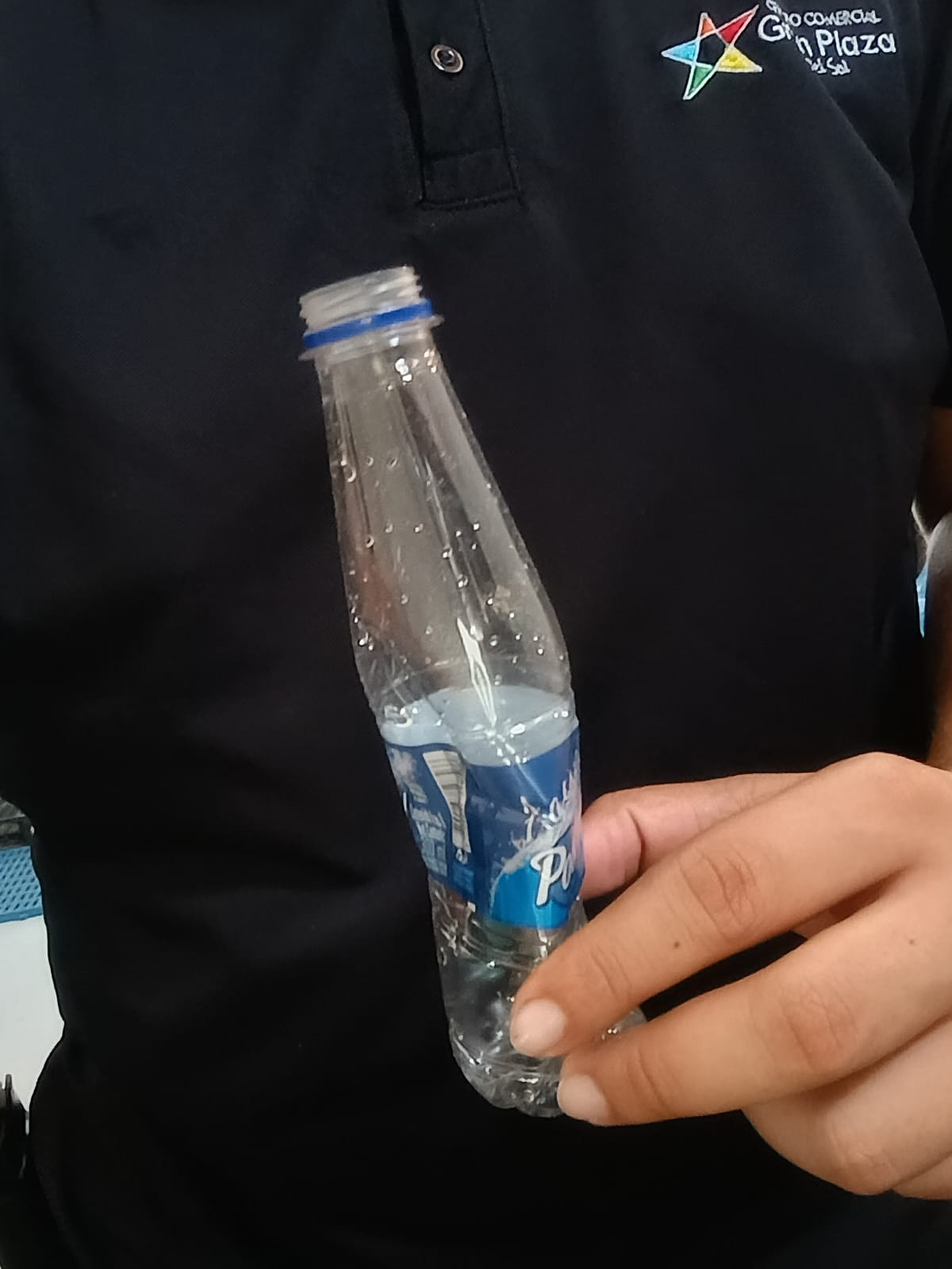Plastico: (294, 265, 651, 1117)
